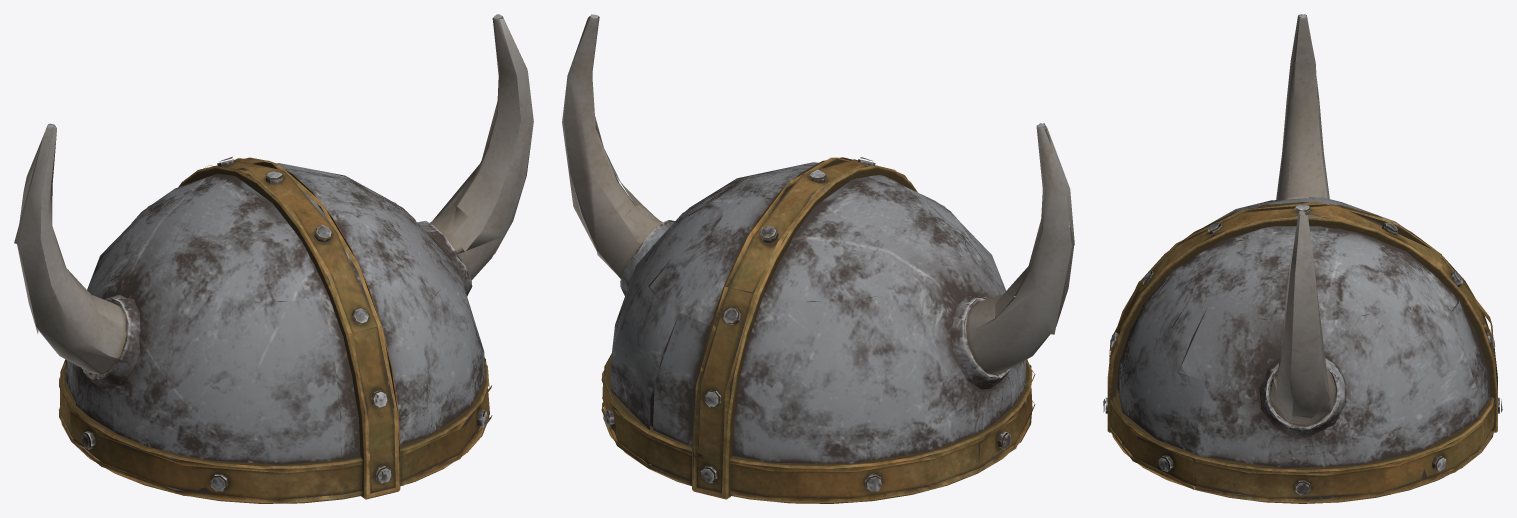
File: headwear-viking.glb
The picture shows the model from 3 angles, left to right: view 1: azimuth 30°, elevation 25°; view 2: azimuth 150°, elevation 25°; view 3: azimuth 270°, elevation 25°; orthographic projection. The views are drawn at different scales.
Visible parts, largest first — view 1: Wolf3D_Facewear; view 2: Wolf3D_Facewear; view 3: Wolf3D_Facewear.
Part boxes in pixels (<box>): Wolf3D_Facewear: <box>14,14,533,503</box>; Wolf3D_Facewear: <box>562,14,1074,503</box>; Wolf3D_Facewear: <box>1103,14,1502,503</box>.
Bounding box in the file's own units: 0.2788 × 0.1802 × 0.2089.
Materials: 1 (1 with a texture image).
